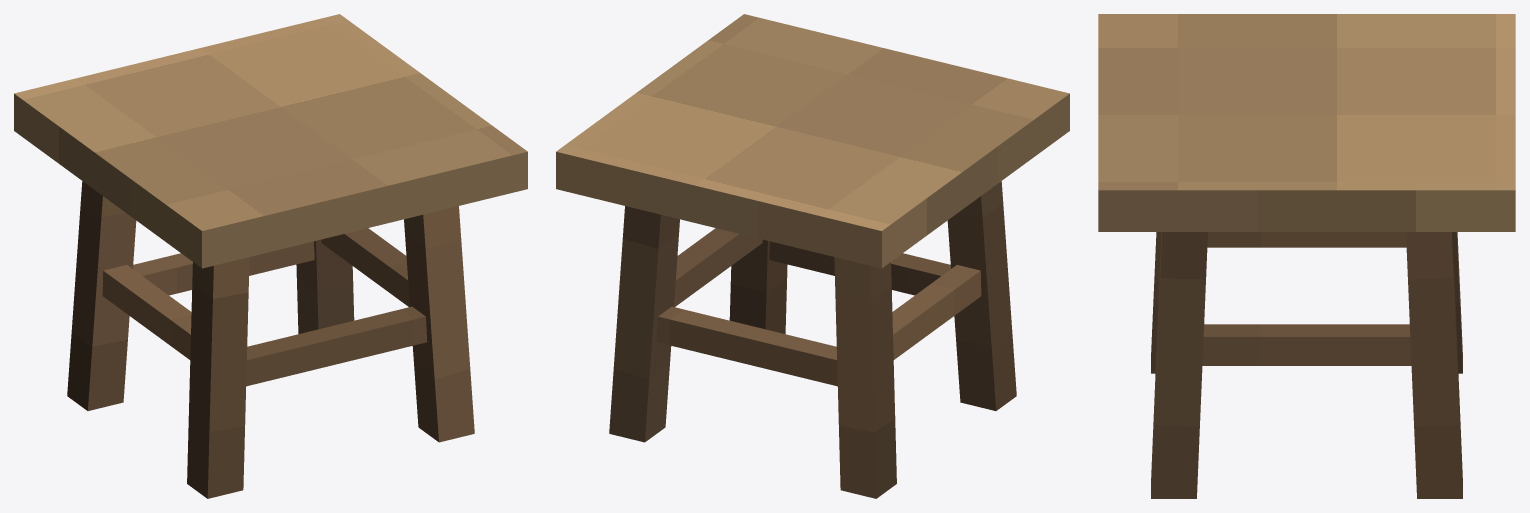
File: wood-square-stool.glb
The picture shows the model from 3 angles, left to right: view 1: azimuth 30°, elevation 25°; view 2: azimuth 150°, elevation 25°; view 3: azimuth 270°, elevation 25°; orthographic projection. The views are drawn at different scales.
Visible parts, largest first — view 1: wood-square-stool/seat, wood-square-stool/leg-0-0, wood-square-stool/leg-1-0, wood-square-stool/leg-0-1, wood-square-stool/cross-stretcher--1, wood-square-stool/leg-1-1, wood-square-stool/end-stretcher--1, wood-square-stool/end-stretcher-1, wood-square-stool/cross-stretcher-1; view 2: wood-square-stool/seat, wood-square-stool/leg-0-1, wood-square-stool/leg-1-1, wood-square-stool/leg-0-0, wood-square-stool/cross-stretcher-1, wood-square-stool/leg-1-0, wood-square-stool/end-stretcher--1, wood-square-stool/end-stretcher-1, wood-square-stool/cross-stretcher--1; view 3: wood-square-stool/seat, wood-square-stool/leg-1-0, wood-square-stool/leg-1-1, wood-square-stool/end-stretcher-1, wood-square-stool/end-stretcher--1, wood-square-stool/leg-0-0, wood-square-stool/leg-0-1.
Boxes of the visible parts, x1=… form: wood-square-stool/seat: x1=14, y1=14, x2=527, y2=268; wood-square-stool/leg-0-0: x1=187, y1=257, x2=249, y2=498; wood-square-stool/leg-1-0: x1=404, y1=206, x2=474, y2=442; wood-square-stool/leg-0-1: x1=67, y1=181, x2=136, y2=410; wood-square-stool/cross-stretcher--1: x1=246, y1=306, x2=427, y2=386; wood-square-stool/leg-1-1: x1=296, y1=239, x2=354, y2=334; wood-square-stool/end-stretcher--1: x1=102, y1=265, x2=191, y2=359; wood-square-stool/end-stretcher-1: x1=321, y1=228, x2=409, y2=307; wood-square-stool/cross-stretcher-1: x1=133, y1=241, x2=314, y2=295; wood-square-stool/seat: x1=556, y1=14, x2=1069, y2=268; wood-square-stool/leg-0-1: x1=834, y1=257, x2=896, y2=498; wood-square-stool/leg-1-1: x1=609, y1=206, x2=679, y2=442; wood-square-stool/leg-0-0: x1=947, y1=181, x2=1016, y2=410; wood-square-stool/cross-stretcher-1: x1=656, y1=306, x2=837, y2=386; wood-square-stool/leg-1-0: x1=729, y1=239, x2=787, y2=334; wood-square-stool/end-stretcher--1: x1=892, y1=265, x2=981, y2=359; wood-square-stool/end-stretcher-1: x1=674, y1=228, x2=762, y2=307; wood-square-stool/cross-stretcher--1: x1=769, y1=241, x2=950, y2=295; wood-square-stool/seat: x1=1098, y1=14, x2=1515, y2=231; wood-square-stool/leg-1-0: x1=1151, y1=232, x2=1207, y2=498; wood-square-stool/leg-1-1: x1=1406, y1=232, x2=1462, y2=498; wood-square-stool/end-stretcher-1: x1=1202, y1=324, x2=1411, y2=365; wood-square-stool/end-stretcher--1: x1=1207, y1=232, x2=1406, y2=247; wood-square-stool/leg-0-0: x1=1151, y1=232, x2=1161, y2=373; wood-square-stool/leg-0-1: x1=1452, y1=232, x2=1462, y2=373.
Size of the model in its own units: 0.328 by 0.2812 by 0.328.
Materials: 2 (2 with a texture image).
